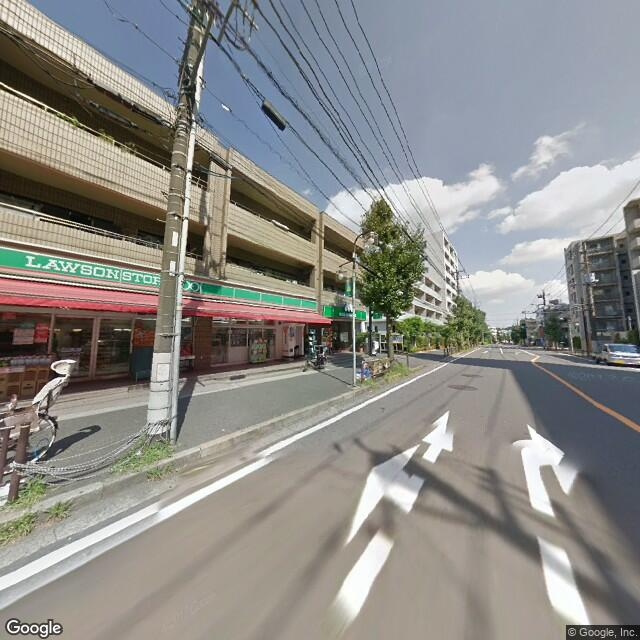lawson: (1, 243, 303, 308)
